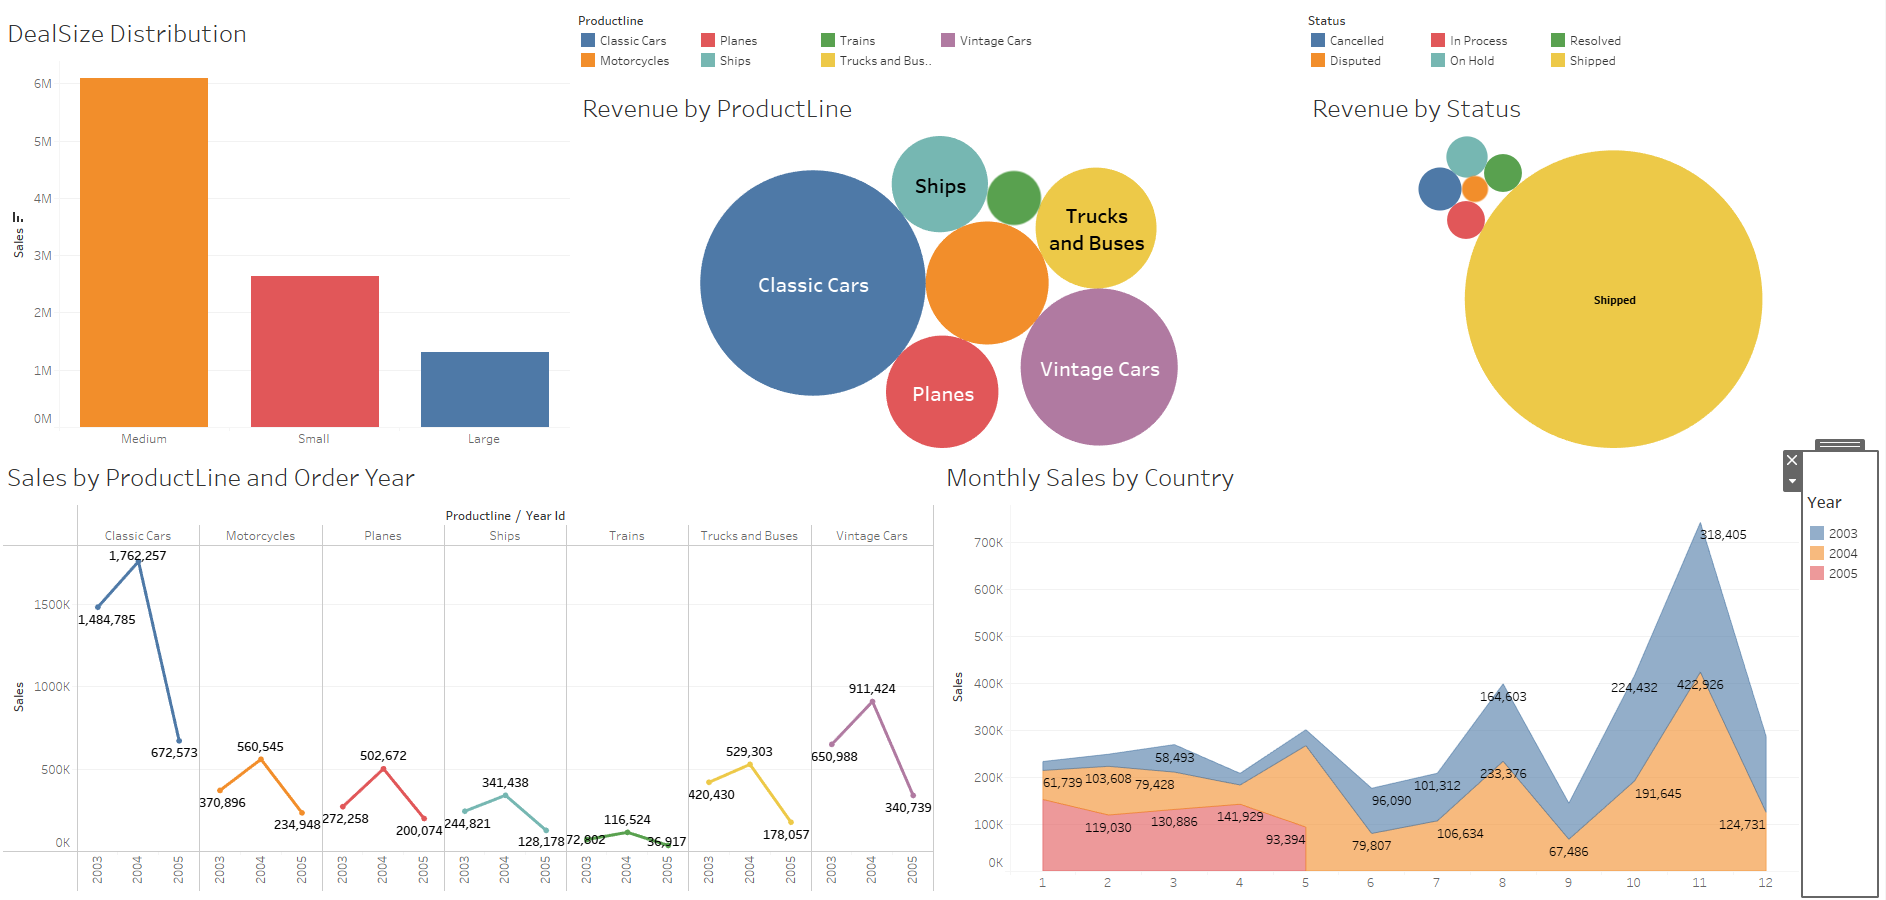

The page's visual inventory and layout, read from the dashboard file:
{"tool":"tableau","page":{"name":"Sales Dash2","canvas":[1000,1000],"units":"permille","ordinal":1},"visuals":[{"type":"worksheet","title":"DealSize Distribution","mark":"Automatic","rows":["SALES"],"cols":["DEALSIZE"],"box":[4.7,8.8,374.1,491.2]},{"type":"legend","title":"Sales by ProductLine and Order Year","param":"[federated.15tkuxn0zxl9cq1bsomi41c1chjj].[none:PRODUCTLINE:nk]","box":[378.8,8.8,314.1,83]},{"type":"legend","title":"Revenue by Status","param":"[federated.15tkuxn0zxl9cq1bsomi41c1chjj].[none:STATUS:nk]","box":[692.9,8.8,302.4,83]},{"type":"worksheet","title":"Revenue by ProductLine","mark":"Circle","box":[378.8,91.8,314.1,408.2]},{"type":"worksheet","title":"Revenue by Status","mark":"Circle","box":[692.9,91.8,302.4,408.2]},{"type":"worksheet","title":"Sales by ProductLine and Order Year","mark":"Line","rows":["SALES"],"cols":["PRODUCTLINE","YEAR_ID"],"box":[4.7,500,495.3,491.2]},{"type":"worksheet","title":"Monthly Sales by Country","mark":"Area","rows":["SALES"],"cols":["MONTH_ID"],"box":[500,500,452,491.2]},{"type":"legend","title":"Monthly Sales by Country","param":"[federated.15tkuxn0zxl9cq1bsomi41c1chjj].[none:YEAR_ID:ok]","box":[952,500,43.3,491.2]}]}

Visuals, with their boxes on the dashboard's canvas, which has no fixed pixel size, in thousandths of its width and height (x1, y1, x2, y2). These are canvas units, not pixel positions in the 1886x900 screenshot, which may show the page scaled, cropped or inside an application window:
"DealSize Distribution" worksheet: crop(5, 9, 379, 500)
"Sales by ProductLine and Order Year" legend: crop(379, 9, 693, 92)
"Revenue by Status" legend: crop(693, 9, 995, 92)
"Revenue by ProductLine" worksheet (Circle marks): crop(379, 92, 693, 500)
"Revenue by Status" worksheet (Circle marks): crop(693, 92, 995, 500)
"Sales by ProductLine and Order Year" worksheet (Line marks): crop(5, 500, 500, 991)
"Monthly Sales by Country" worksheet (Area marks): crop(500, 500, 952, 991)
"Monthly Sales by Country" legend: crop(952, 500, 995, 991)
